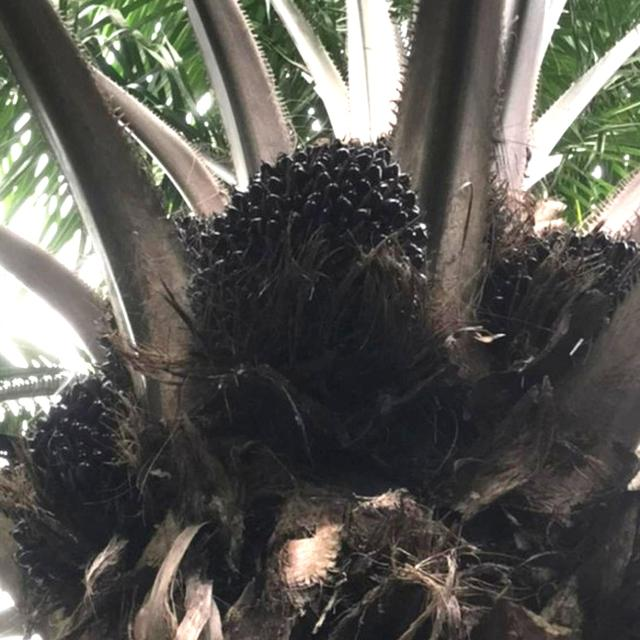ripe: (192, 130, 436, 394), (33, 357, 169, 544), (479, 221, 629, 347)
